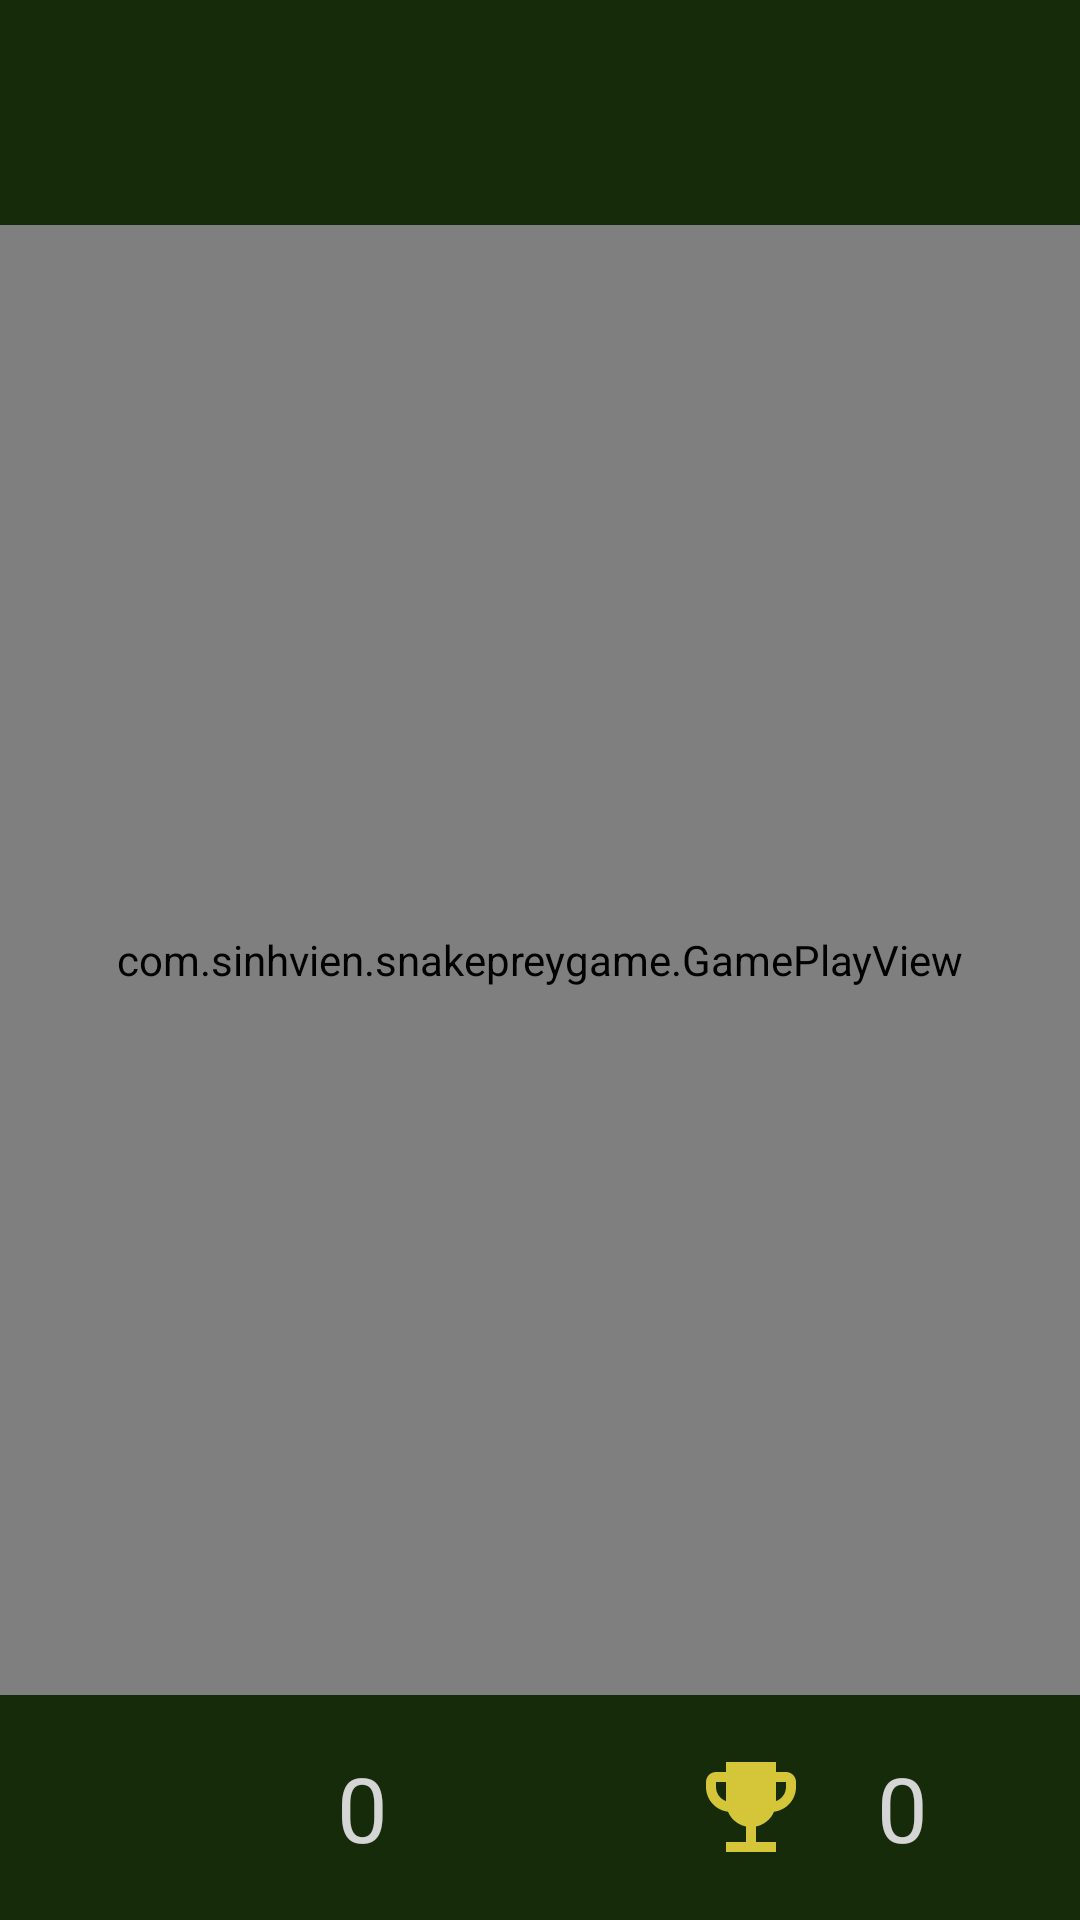

Icon click points for this 1080*1920 phone screenshot, format (x,y):
emoji events: (751,1807)
